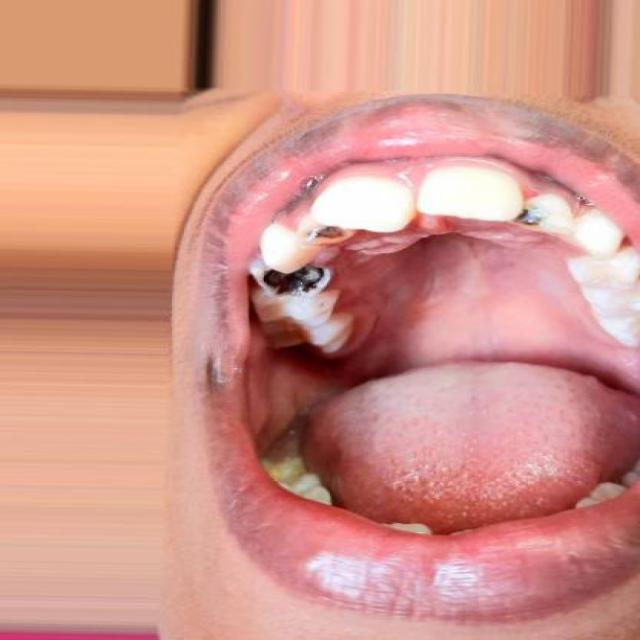caries: (251, 258, 337, 303), (296, 217, 355, 249), (504, 203, 558, 235)
